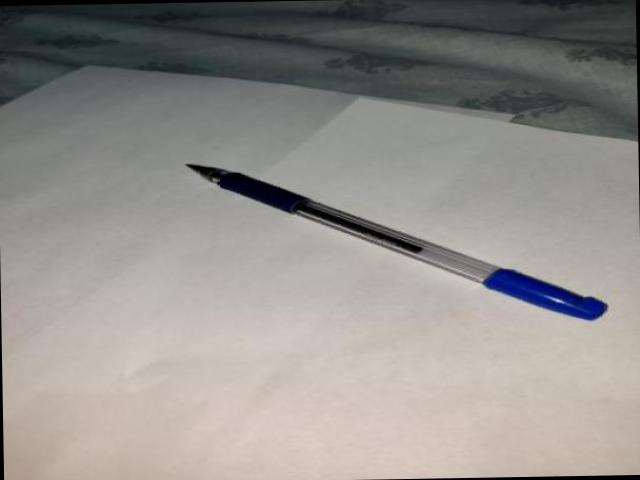PEN: (176, 148, 620, 335)
